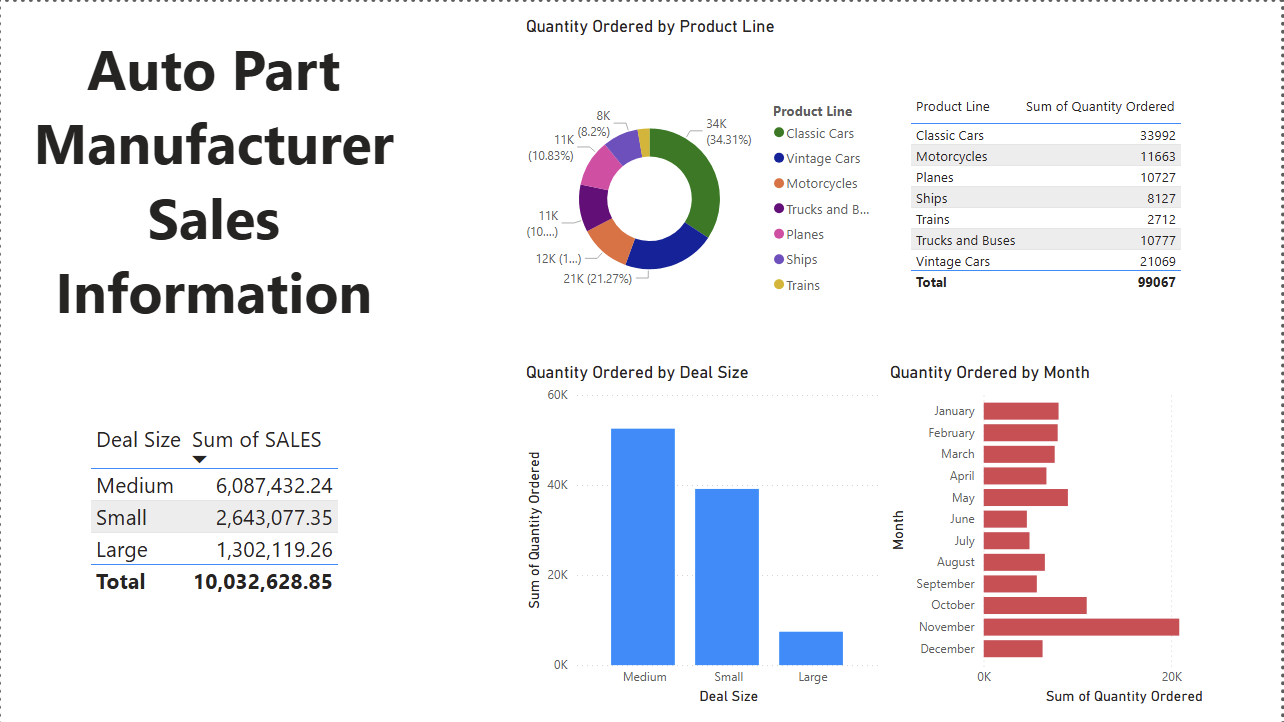

The dashboard page shown, as its layout file describes it:
{"tool":"powerbi","page":{"name":"Page 1","canvas":[1280,720],"ordinal":0},"visuals":[{"type":"columnChart","title":"Quantity Ordered by Deal Size","fields":{"Category":["in.Deal Size"],"Y":["Sum(in.QUANTITYORDERED)"]},"box":[520.9,360.2,364.1,346.6],"z":0},{"type":"barChart","title":"Quantity Ordered by Month","fields":{"Category":["in.ORDERDATE.Variation.Date Hierarchy.Month"],"Y":["Sum(in.QUANTITYORDERED)"]},"box":[885,360.2,395,346.6],"z":1},{"type":"donutChart","title":"Quantity Ordered by Product Line","fields":{"Category":["in.PRODUCTLINE"],"Y":["Sum(in.Quantity Ordered)"]},"box":[520.9,13.6,364.1,346.6],"z":2},{"type":"tableEx","fields":{"Values":["in.Product Line","Sum(in.Quantity Ordered)"]},"box":[904,88,284,208],"z":3},{"type":"textbox","box":[0,21.6,425.5,339.2],"z":4},{"type":"tableEx","fields":{"Values":["in.Deal Size","Sum(in.SALES)"]},"box":[83.9,416.1,260.7,196.4],"z":5}]}

Visuals, with their boxes in screenshot pixels (x1, y1, x2, y2), scaled from the page's 1280x720 canvas onto the 1284x722 screenshot:
"Quantity Ordered by Deal Size" columnChart: crop(523, 361, 888, 709)
"Quantity Ordered by Month" barChart: crop(888, 361, 1283, 709)
"Quantity Ordered by Product Line" donutChart: crop(523, 14, 888, 361)
tableEx - in.Product Line x Sum(in.Quantity Ordered): crop(907, 88, 1192, 297)
textbox: crop(0, 22, 427, 362)
tableEx - in.Deal Size x Sum(in.SALES): crop(84, 417, 346, 614)
